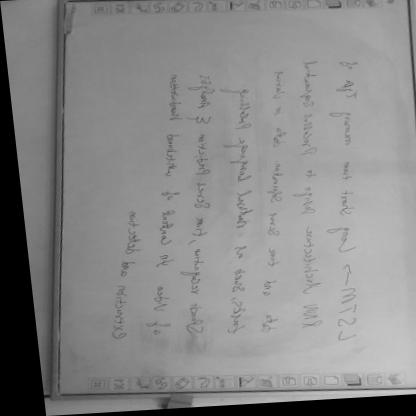Handwritten text: (132, 65, 183, 344), (171, 68, 220, 340), (321, 59, 366, 351), (285, 56, 326, 340), (211, 83, 255, 338), (250, 63, 290, 338), (91, 205, 144, 344)
Whiteboard: (47, 0, 416, 394)
